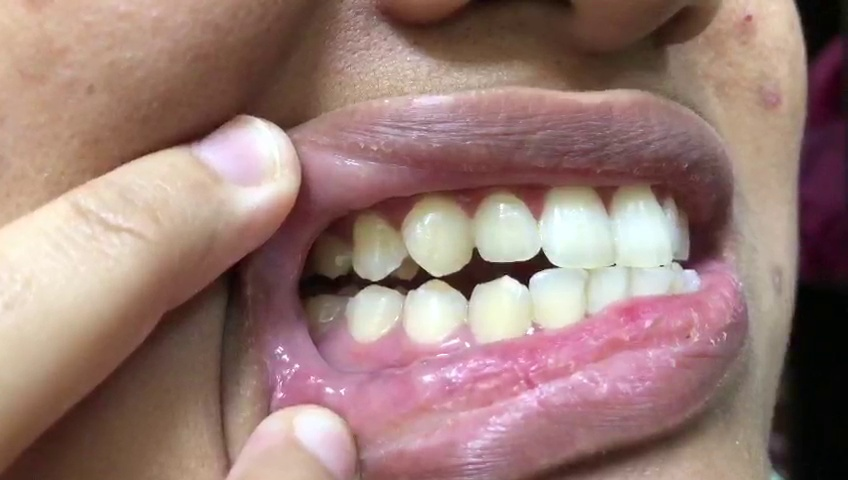1st Molar: (306, 291, 344, 339)
1st Premolar: (403, 278, 467, 345), (351, 210, 407, 281)
2nd Premolar: (344, 284, 401, 342), (310, 231, 350, 279)
Canine: (401, 197, 474, 276), (468, 275, 532, 342)
Central Incisor: (539, 181, 613, 268), (610, 183, 674, 268)
Lateral Incisor: (474, 190, 541, 263), (530, 268, 590, 328)
